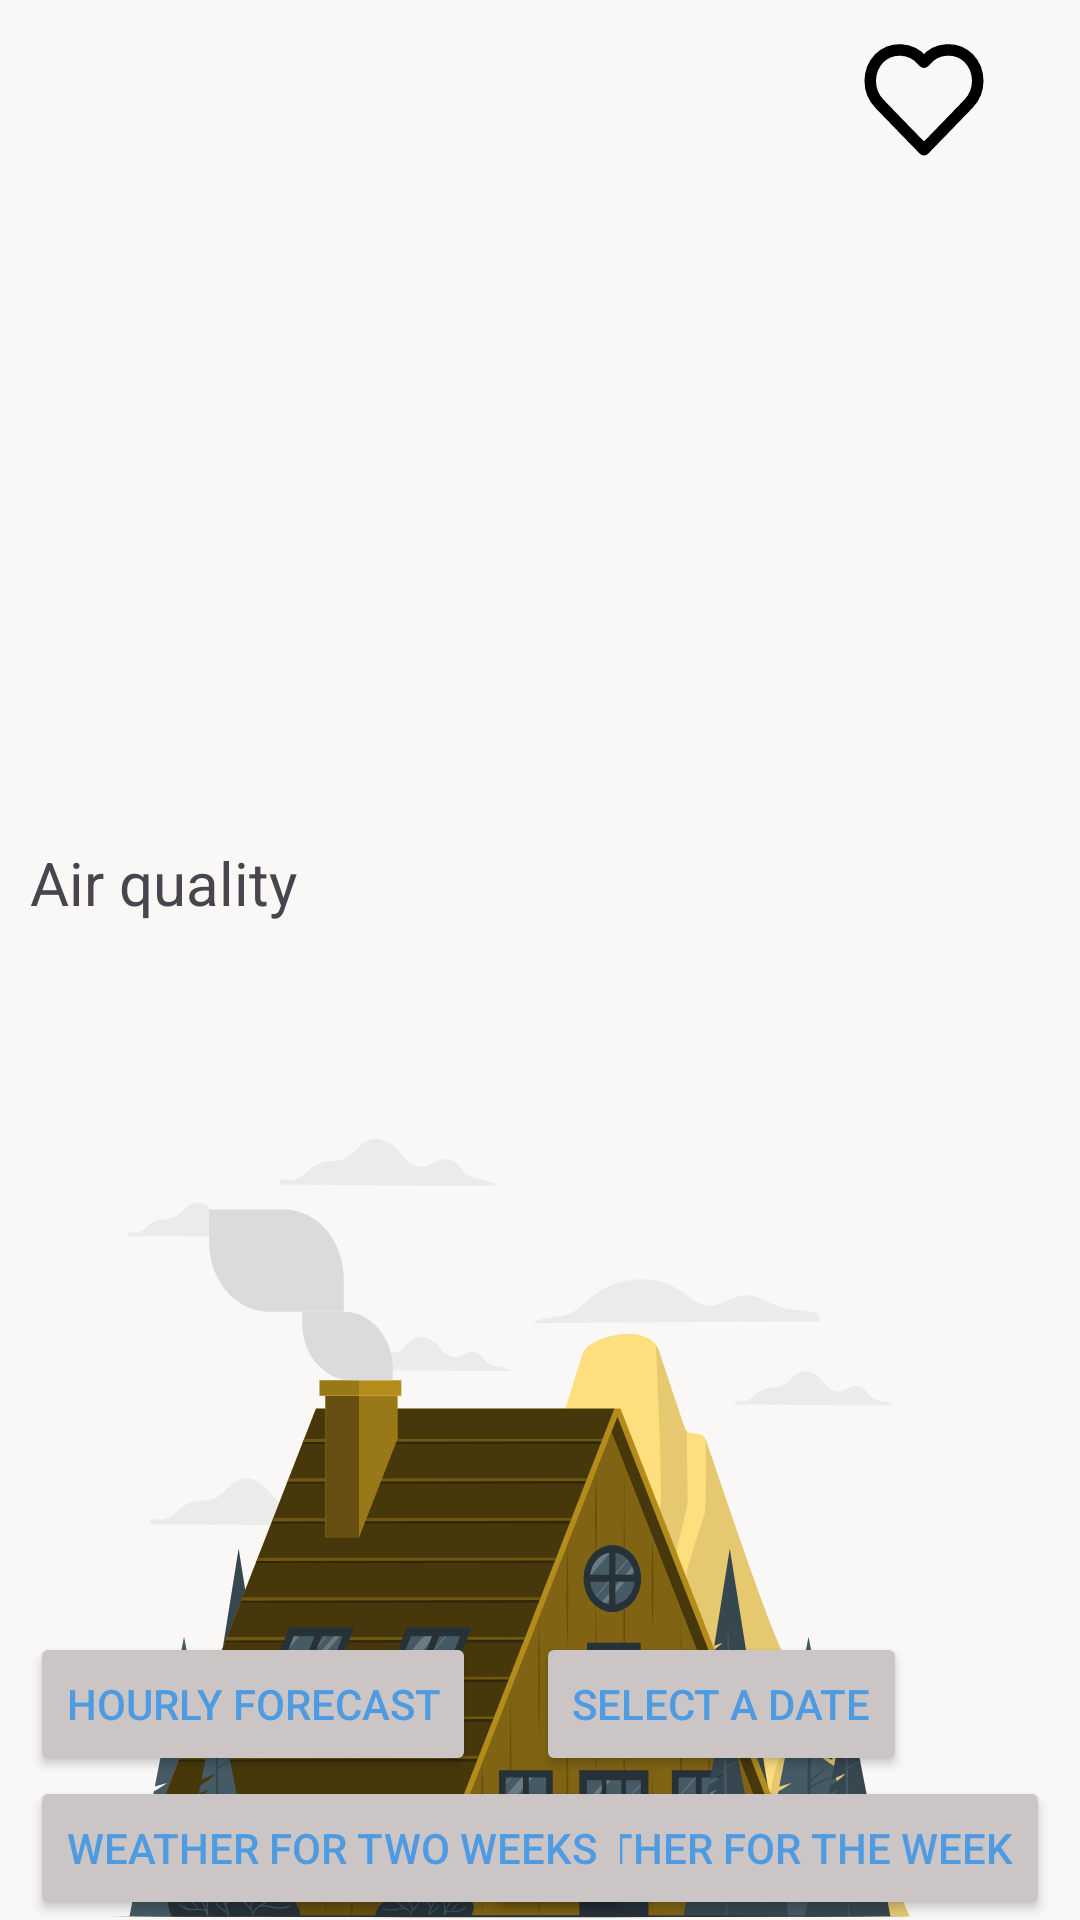

Icon bounding boxes for this 1080 x 1920 phone screenshot, format box(x1, y1, x2, y2):
heart: box(864, 44, 984, 156)
